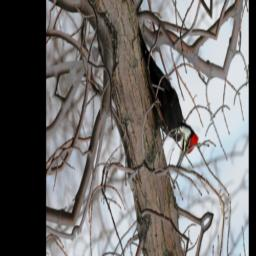Woodpecker: (130, 0, 201, 183)
